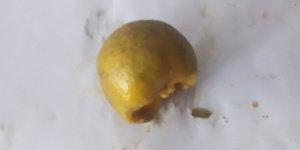BAD: (97, 15, 200, 124)
